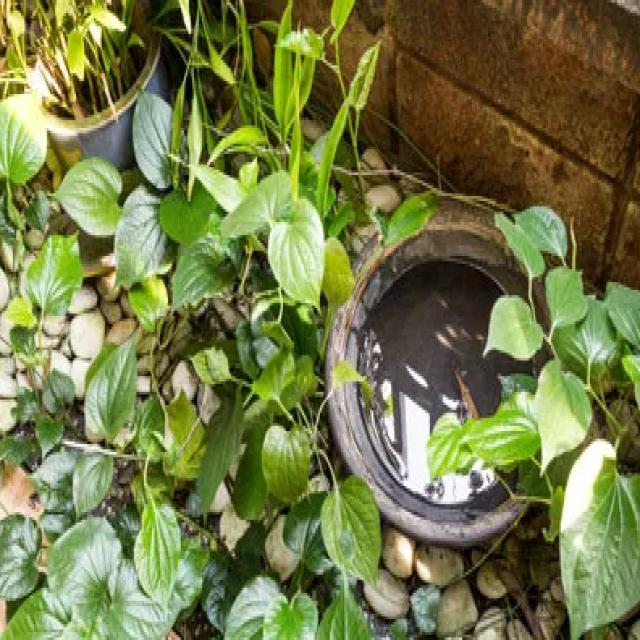Breeding Place: (328, 202, 552, 535)
